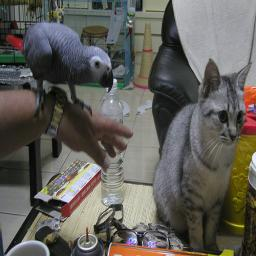catnose: (230, 134, 236, 144)
